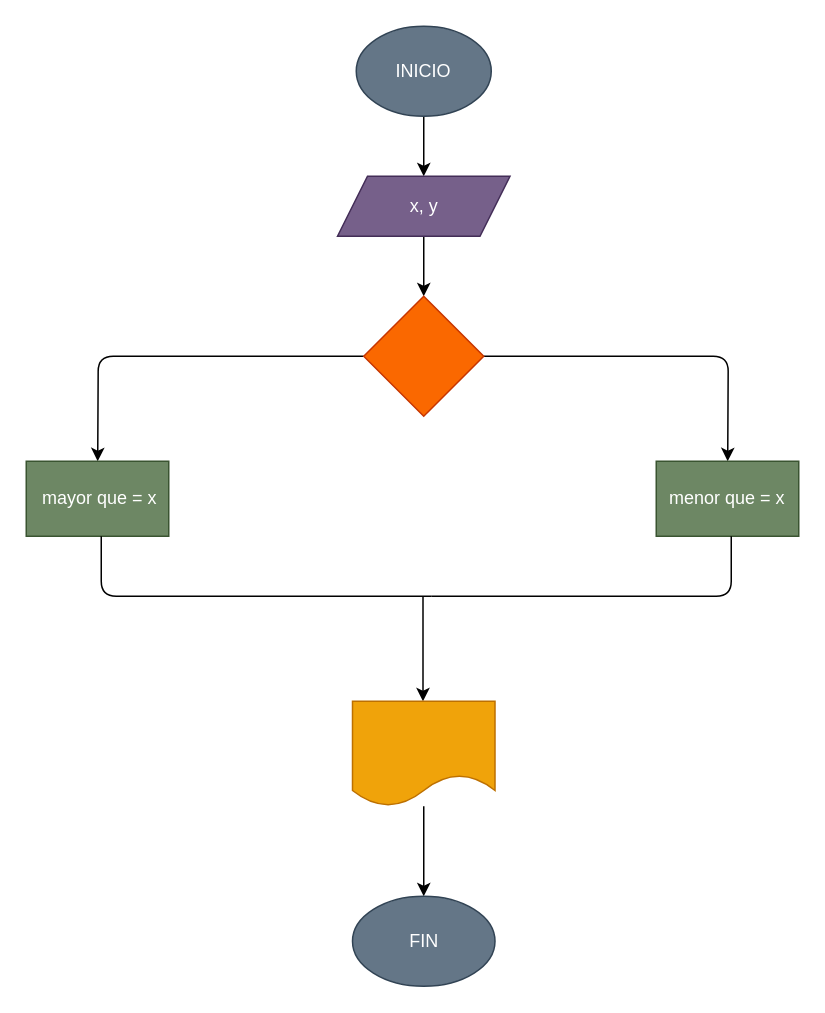
Some shapes in this 825 by 1013 pixel diagram are drawn without their labels. The shapes that lost their labels are listed below. From the top down, each one's box as (x1, y1, x2, y2) in pixels, then its label:
(362, 295, 484, 416): x > y
(351, 700, 495, 806): mayor
